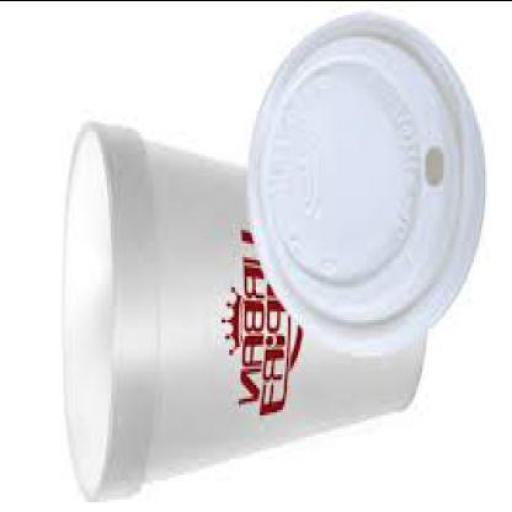paper: (59, 122, 426, 496)
plastic: (245, 11, 481, 355)
